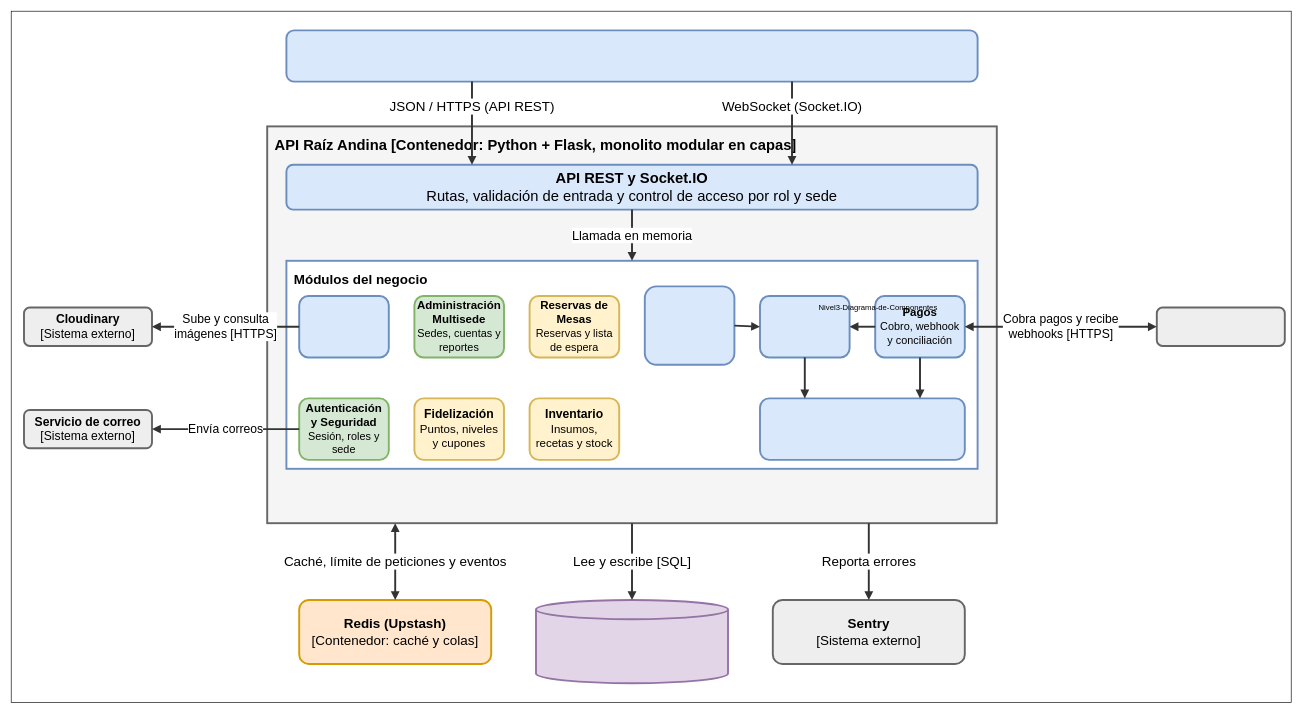
The diagram is 1302 pixels wide and 714 high, and some of its shapes have lost their labels. Each missing label, with the centre of its shape:
Aplicación web (SPA) [Contenedor: React + Vite]: (x=631, y=55)
Base de datos [Contenedor: MySQL 8.0]: (x=632, y=641)
Menú Digital Carta, productos y fotos: (x=343, y=326)
Mercado Pago [Sistema externo]: (x=1220, y=326)
Notificaciones Eventos en tiempo real por sede y por pedido: (x=862, y=428)
Panel de Cocina (KDS) Pedidos pagados por estado: (x=689, y=325)
Pedidos Carrito, estados y tiempo estimado: (x=804, y=326)
